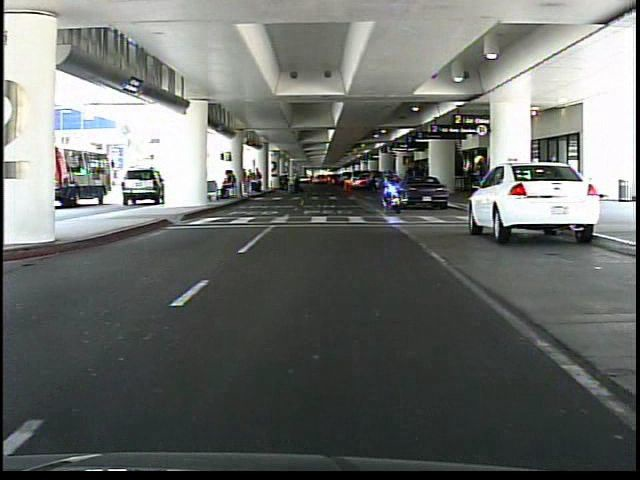person: (465, 150, 490, 224)
